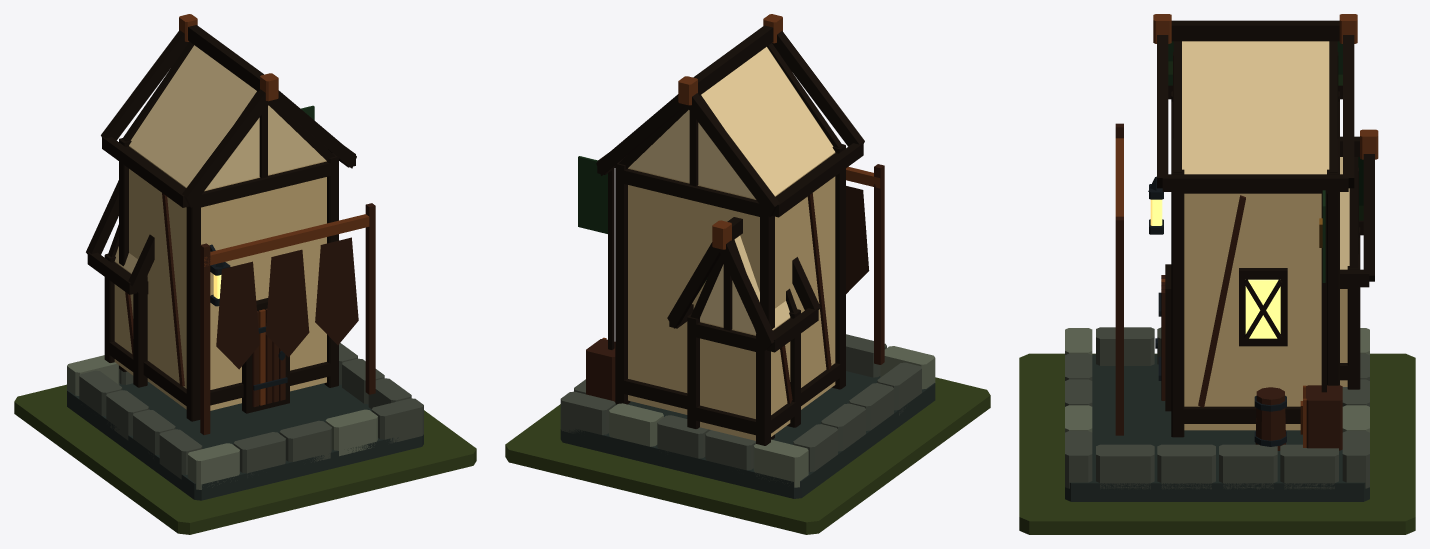
File: tannery_t6.glb
3 views of the same model, side by side, from view 1: azimuth 30°, elevation 25°; view 2: azimuth 150°, elevation 25°; view 3: azimuth 270°, elevation 25° (orthographic). The views are drawn at different scales.
Visible parts, largest first — view 1: MMR | tannery | T06 Architecture.001, MMR | tannery | Tier 06 Ground.001; view 2: MMR | tannery | T06 Architecture.001, MMR | tannery | Tier 06 Ground.001; view 3: MMR | tannery | T06 Architecture.001, MMR | tannery | Tier 06 Ground.001.
Boxes of the visible parts, left/top/right/bottom form: MMR | tannery | T06 Architecture.001: left=67, top=14, right=423, bottom=500; MMR | tannery | Tier 06 Ground.001: left=14, top=384, right=476, bottom=534; MMR | tannery | T06 Architecture.001: left=560, top=14, right=935, bottom=498; MMR | tannery | Tier 06 Ground.001: left=505, top=377, right=990, bottom=534; MMR | tannery | T06 Architecture.001: left=1065, top=14, right=1378, bottom=501; MMR | tannery | Tier 06 Ground.001: left=1019, top=353, right=1415, bottom=534.
Size of the model in its own units: 1.3 by 1.57 by 1.3.
2 materials, 1 textured.
